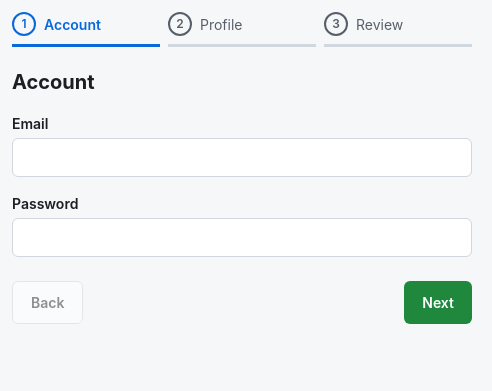
Test case: blocks Next on an empty Account step, showing errors and focusing the first invalid field
Click the button "Next": (438, 302) 404,281 -> 472,324
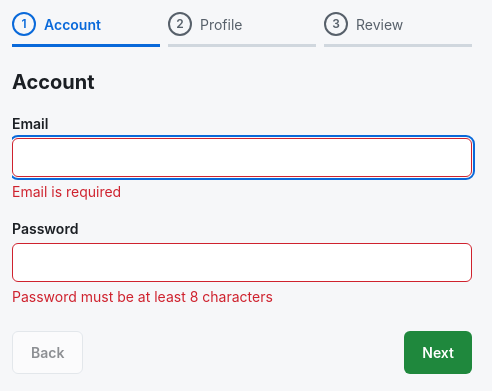
Check: the heading "Account" is shown, box 12,70 -> 94,94
Check: the text "Email is required" is shown, box 12,183 -> 121,200
Check: the text "Password must be at least 8 characters" is shown, box 12,288 -> 273,305
